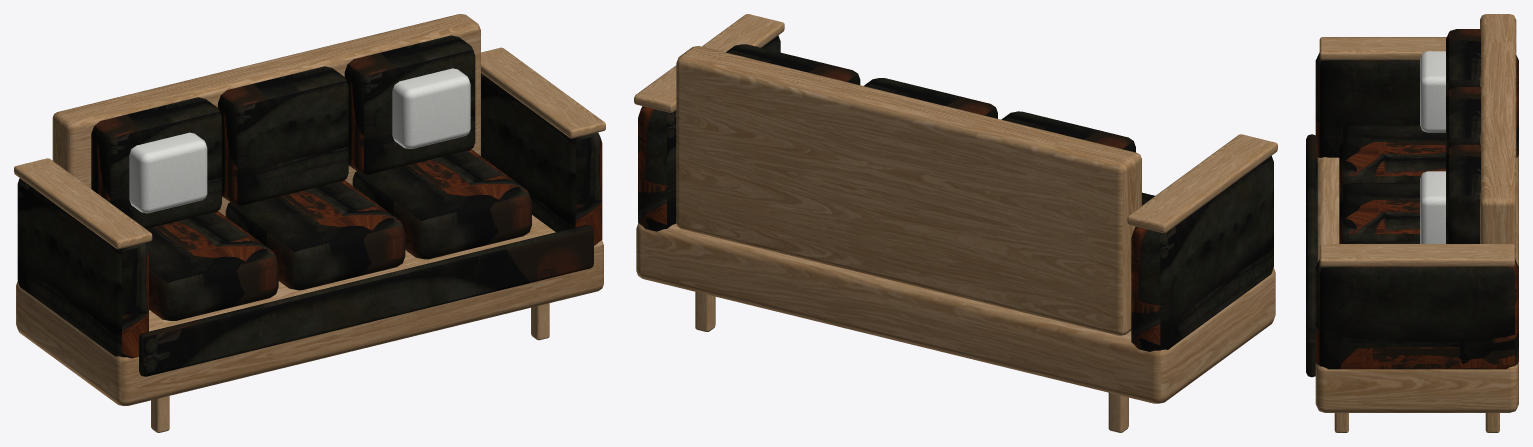
File: sofa_3-seater_teal.glb
The picture shows the model from 3 angles, left to right: view 1: azimuth 30°, elevation 25°; view 2: azimuth 150°, elevation 25°; view 3: azimuth 270°, elevation 25°; orthographic projection. The views are drawn at different scales.
Parts seen in each view (by area): view 1: front rail, sofa base, back cushion.001, armrest, seat cushion.001, seat cushion.002, back frame, armrest.001, seat cushion, back cushion.002, back cushion, accent cushion (+5 smaller); view 2: back frame, sofa base, armrest, arm timber cap, armrest.001, arm timber cap.001, back cushion, back cushion.002, back cushion.001, timber foot.001, timber foot.003; view 3: armrest.001, sofa base, back frame, armrest, seat cushion, seat cushion.001, arm timber cap.001, back cushion.002, arm timber cap, front rail, accent cushion, back cushion (+5 smaller).
Part boxes in pixels (left/top/right/bottom): front rail: left=139, top=225, right=593, bottom=376; sofa base: left=16, top=215, right=603, bottom=405; back cushion.001: left=218, top=66, right=348, bottom=205; armrest: left=17, top=178, right=148, bottom=358; seat cushion.001: left=225, top=180, right=405, bottom=290; seat cushion.002: left=352, top=149, right=531, bottom=259; back frame: left=52, top=14, right=480, bottom=216; armrest.001: left=481, top=73, right=602, bottom=245; seat cushion: left=145, top=211, right=278, bottom=320; back cushion.002: left=344, top=35, right=475, bottom=174; back cushion: left=91, top=97, right=221, bottom=228; accent cushion: left=129, top=132, right=207, bottom=213; back frame: left=676, top=46, right=1141, bottom=335; sofa base: left=636, top=223, right=1275, bottom=403; armrest: left=1131, top=156, right=1273, bottom=351; arm timber cap: left=1127, top=134, right=1277, bottom=233; armrest.001: left=638, top=35, right=780, bottom=231; arm timber cap.001: left=634, top=14, right=784, bottom=112; back cushion: left=1001, top=111, right=1135, bottom=152; back cushion.002: left=726, top=44, right=860, bottom=84; back cushion.001: left=864, top=78, right=997, bottom=118; timber foot.001: left=1108, top=393, right=1128, bottom=432; timber foot.003: left=695, top=292, right=715, bottom=331; armrest.001: left=1315, top=259, right=1518, bottom=369; sofa base: left=1315, top=155, right=1518, bottom=412; back frame: left=1480, top=14, right=1516, bottom=260; armrest: left=1315, top=52, right=1518, bottom=157; seat cushion: left=1339, top=125, right=1445, bottom=194; seat cushion.001: left=1339, top=183, right=1419, bottom=243; arm timber cap.001: left=1319, top=244, right=1514, bottom=266; back cushion.002: left=1446, top=144, right=1480, bottom=243; arm timber cap: left=1319, top=37, right=1446, bottom=59; front rail: left=1306, top=134, right=1317, bottom=377; accent cushion: left=1420, top=51, right=1445, bottom=132; back cushion: left=1446, top=29, right=1480, bottom=95.
Size of the model in its own units: 2.03 by 1.01 by 0.8175.
4 materials, 4 textured.
